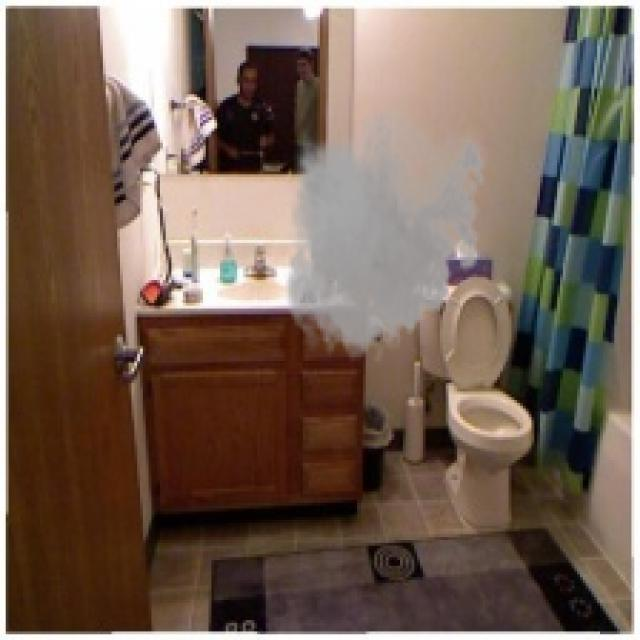Smoke: (277, 94, 492, 369)
